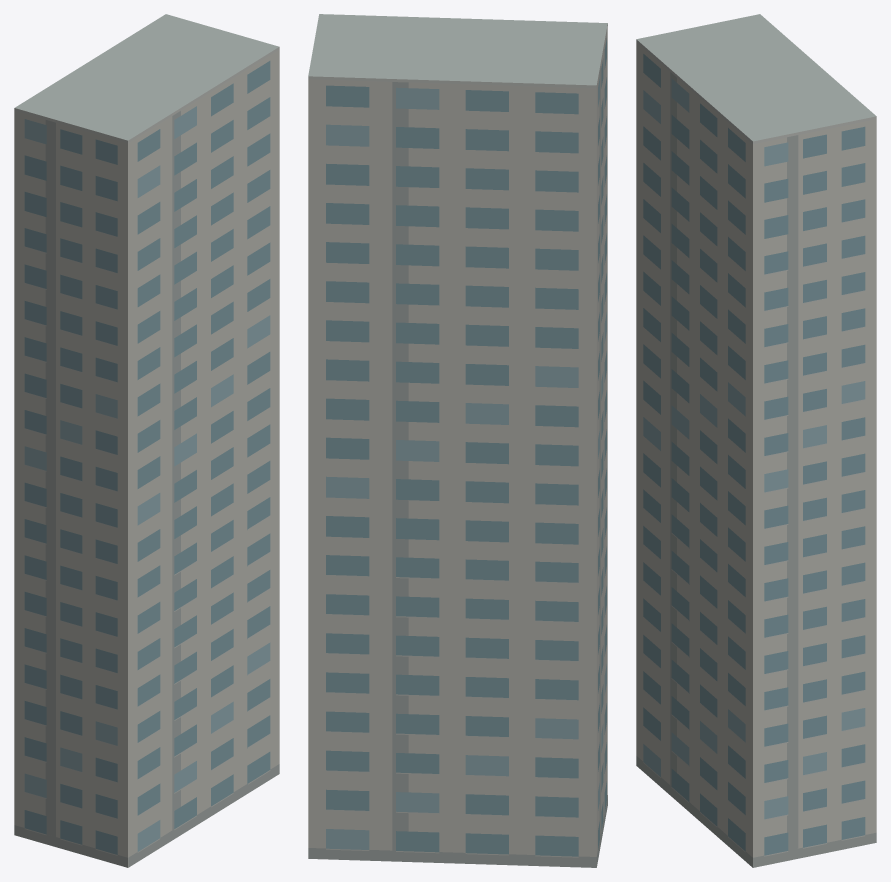
The model's file is residential-3ebb951e-f72f-41ae-b6b7-c30101eb9e57.glb.
3 views of the same model, side by side, from view 1: azimuth 30°, elevation 25°; view 2: azimuth 150°, elevation 25°; view 3: azimuth 270°, elevation 25° (orthographic). The views are drawn at different scales.
Parts seen in each view (by area): view 1: residential-3ebb951e-f72f-41ae-b6b7-c30101eb9e57.tmp; view 2: residential-3ebb951e-f72f-41ae-b6b7-c30101eb9e57.tmp; view 3: residential-3ebb951e-f72f-41ae-b6b7-c30101eb9e57.tmp.
Boxes of the visible parts, x1,y1,x2,y2 form: residential-3ebb951e-f72f-41ae-b6b7-c30101eb9e57.tmp: (14,14,279,867); residential-3ebb951e-f72f-41ae-b6b7-c30101eb9e57.tmp: (308,14,607,867); residential-3ebb951e-f72f-41ae-b6b7-c30101eb9e57.tmp: (636,14,876,867).
Size of the model in its own units: 24.09 by 64 by 19.2.
